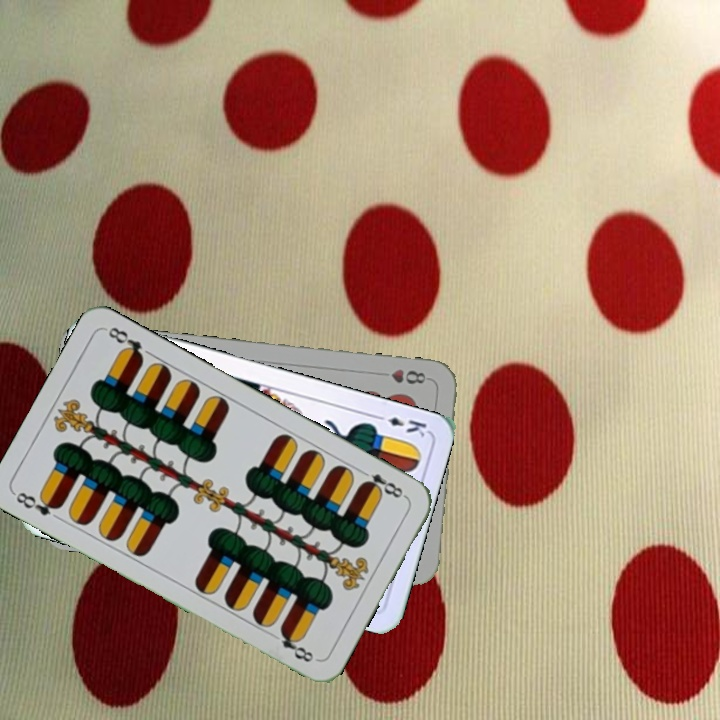E8: (355, 465, 409, 501), (11, 487, 64, 518)
EK: (371, 410, 430, 439)
H8: (387, 365, 432, 387)
